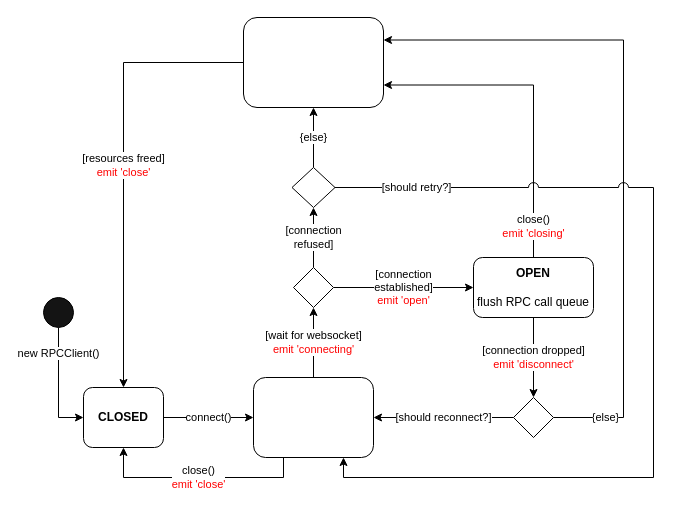
The diagram is 679 pixels wide and 508 high, and some of its shapes have lost their labels. Here are the shapes that lost their labels. From the top down, the centre of each, then its label:
pixel 313 62: CLOSING block new RPC calls await in-flight calls? close/abort websocket
pixel 313 417: CONNECTING create websocket queue RPC calls
